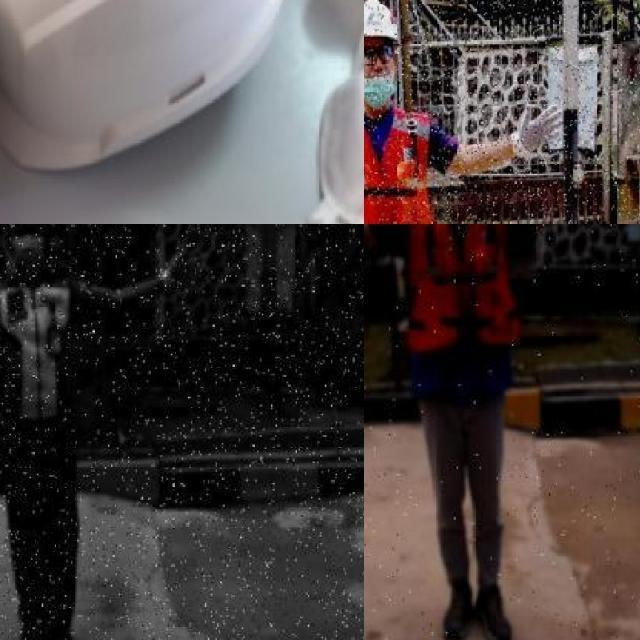apron: (510, 102, 564, 159), (158, 244, 206, 296)
